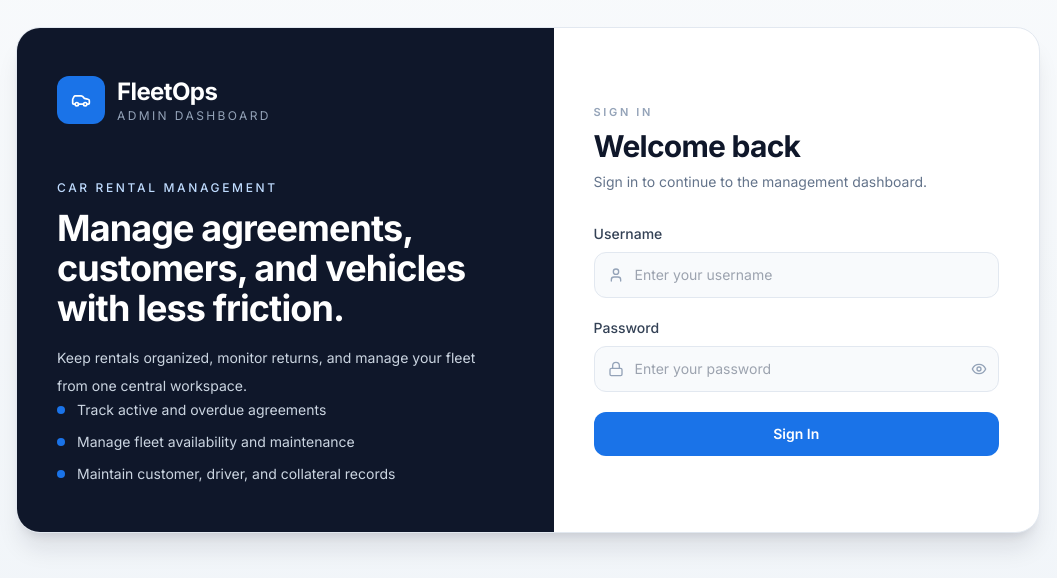
it: LoginPage failure title › blames the credentials only on a 401
In the field labelled "Username": (796, 275) [594,252,999,298], type "admin"
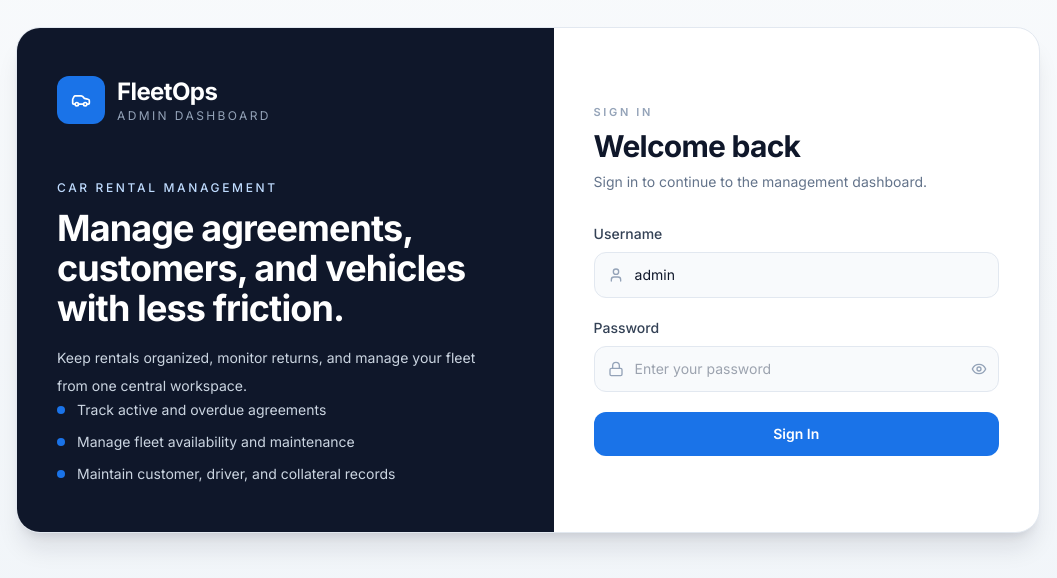
In the password field labelled "Password": (796, 369) [594,346,999,392], type "secret-pass"
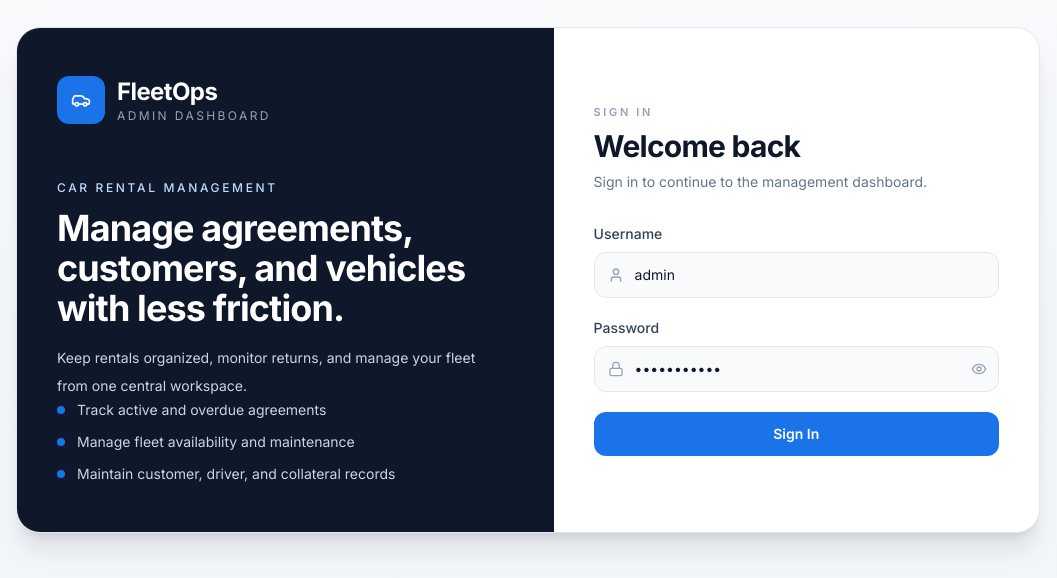
Submit the form labelled "Username", box [594,224,999,456]
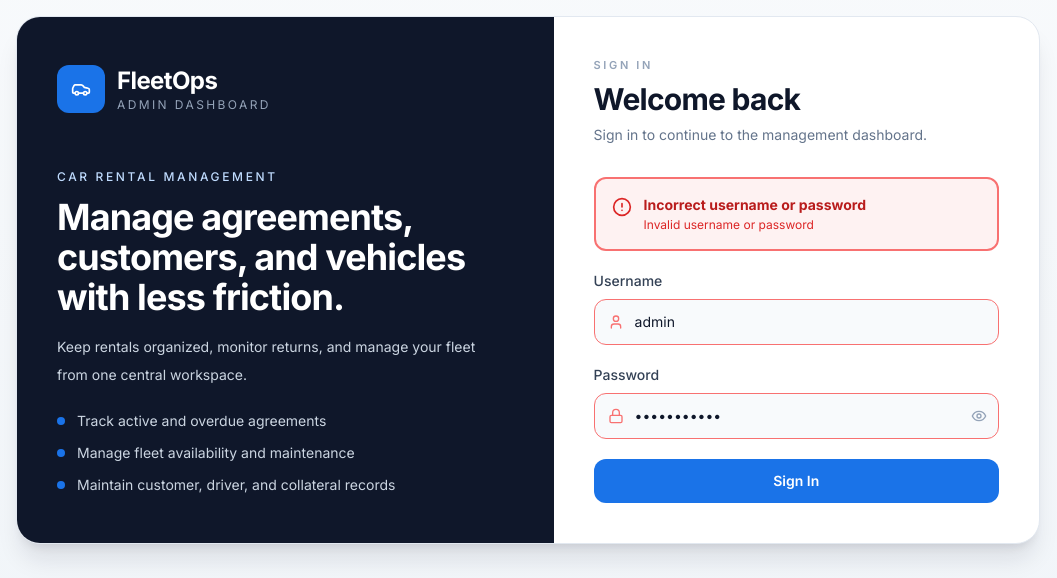
Result: the text "Incorrect username or password" is shown at [644,195,866,215]
